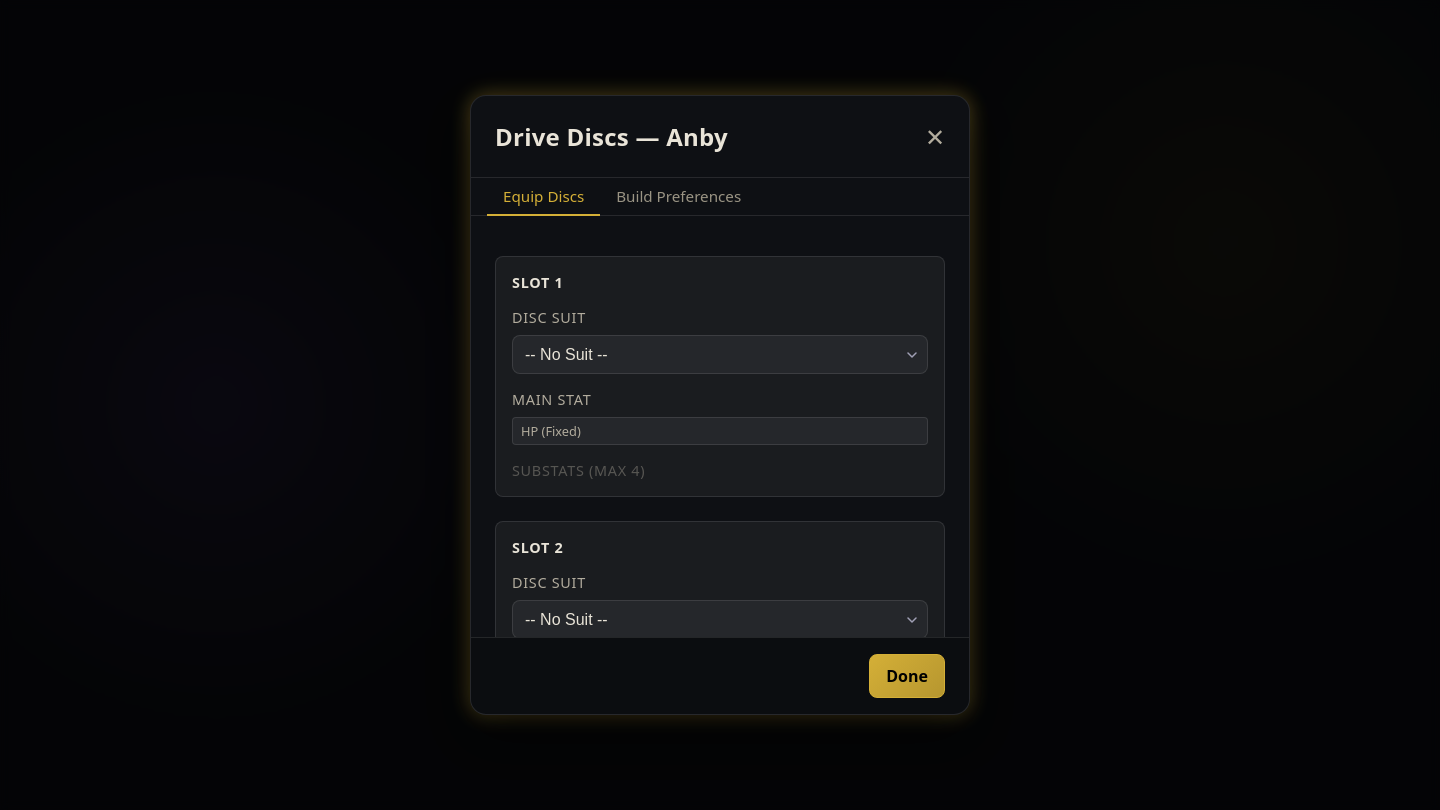
Scenario: DiscEditorModal › shows suit selects, three main chains, substat chain, and comments
This screenshot has width=1440, height=810.
Click the button "Build Preferences": (679, 197) left=600, top=178, right=757, bottom=216
(page scrolled)
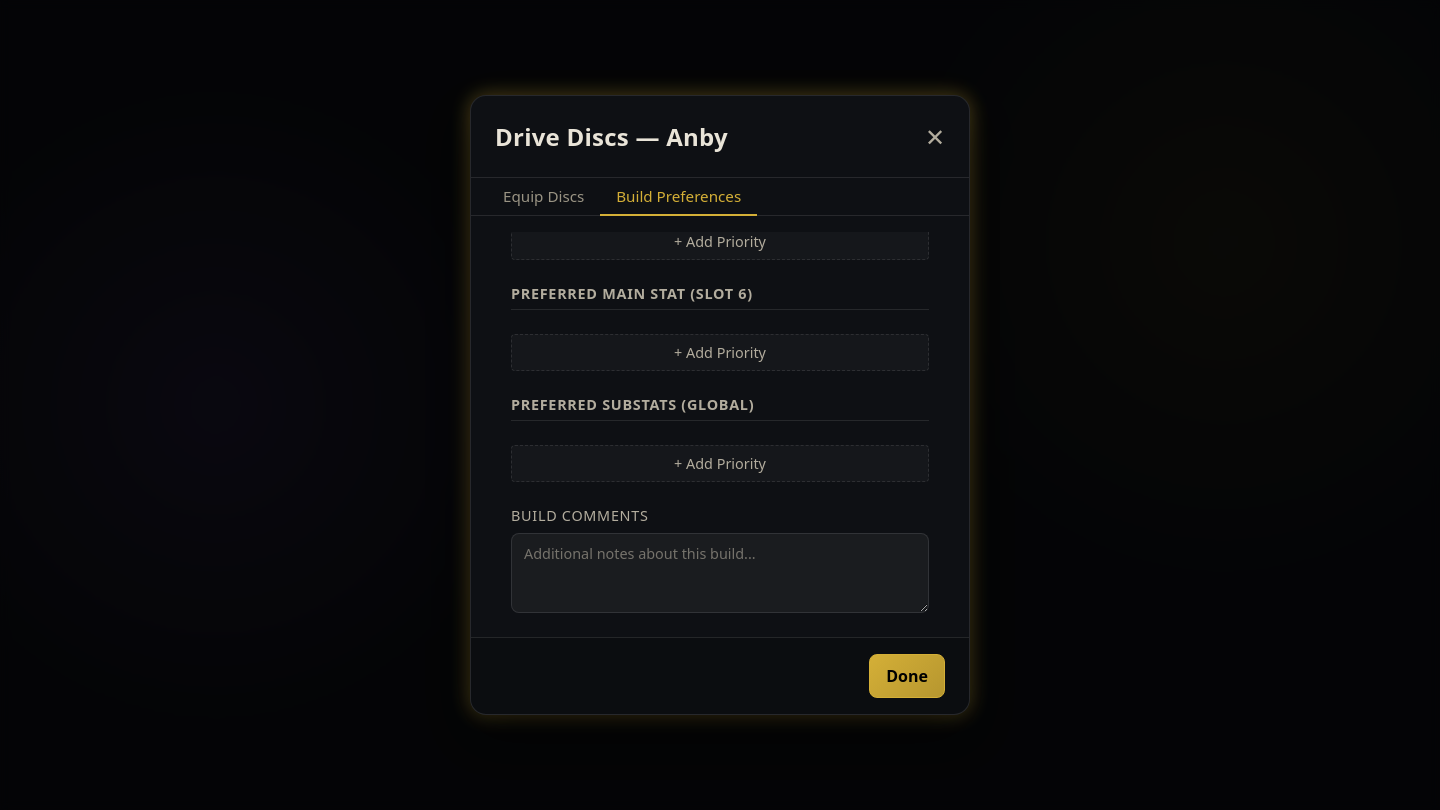
Now the heading "Preferred Main Stat (Slot 6)" is shown, box left=511, top=284, right=929, bottom=310
Now the heading "Preferred Substats (Global)" is shown, box left=511, top=395, right=929, bottom=421
Now the text "Build Comments" is shown, box left=511, top=506, right=649, bottom=525
